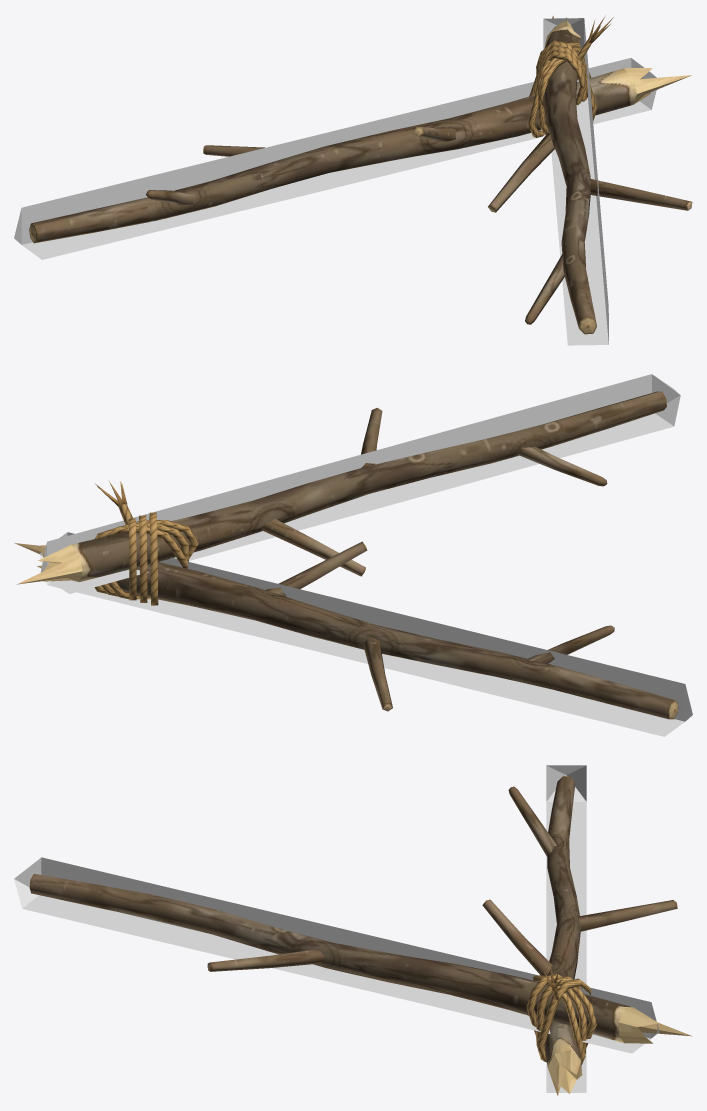
File: IO_Bound_A_StickStick.glb
The picture shows the model from 3 angles, top to bottom: view 1: azimuth 30°, elevation 25°; view 2: azimuth 150°, elevation 25°; view 3: azimuth 270°, elevation 25°; orthographic projection. The views are drawn at different scales.
Visible parts, largest first — view 1: IO_Bound_A_StickStick_LOD0, IO_Bound_A_StickStick_COL; view 2: IO_Bound_A_StickStick_LOD0, IO_Bound_A_StickStick_COL; view 3: IO_Bound_A_StickStick_LOD0, IO_Bound_A_StickStick_COL.
Boxes of the visible parts, x1,y1,x2,y2 form: IO_Bound_A_StickStick_LOD0: [29, 15, 692, 334]; IO_Bound_A_StickStick_COL: [14, 18, 656, 345]; IO_Bound_A_StickStick_LOD0: [14, 391, 678, 719]; IO_Bound_A_StickStick_COL: [39, 374, 692, 736]; IO_Bound_A_StickStick_LOD0: [29, 776, 692, 1095]; IO_Bound_A_StickStick_COL: [14, 765, 659, 1092].
Size of what is drawn, in the model's own units: 0.9099 by 0.1371 by 0.8081.
2 materials, 2 textured.
